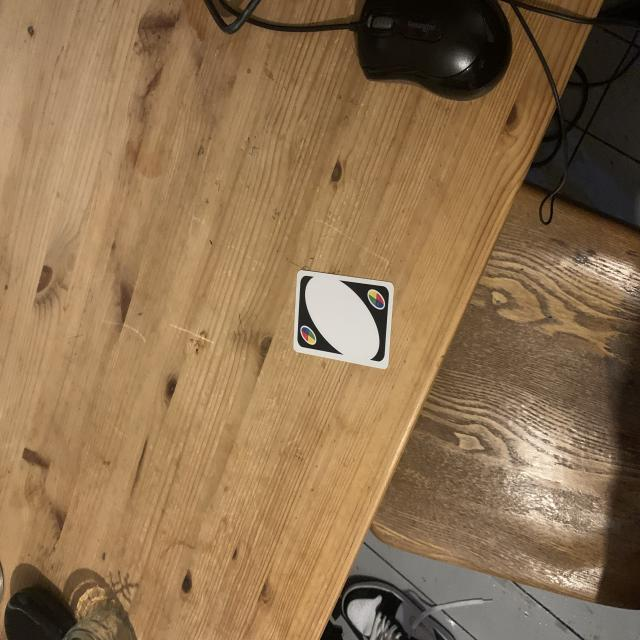lcolor-40: (365, 280, 390, 318)
